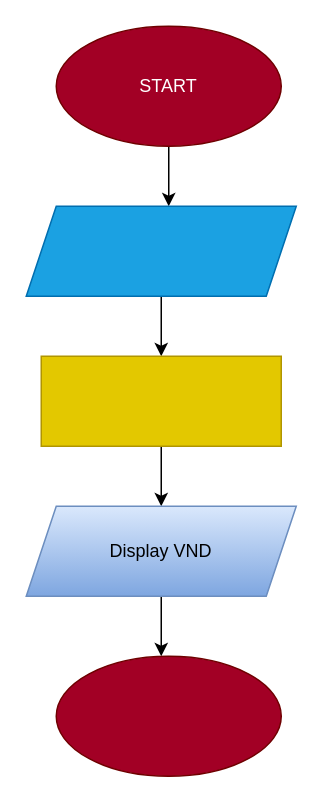
Some shapes in this 323 by 803 pixel diagram are drawn without their labels. Each missing label, with the centre of its shape:
"INPUT Dollar" goes at point 160,250.
"VND=Dollar*23000" goes at point 160,400.
